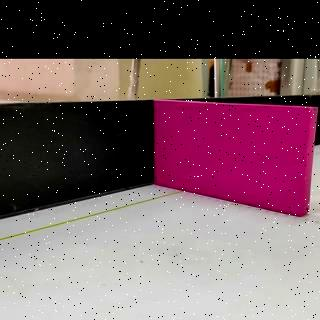xparking: (157, 109, 309, 212)
